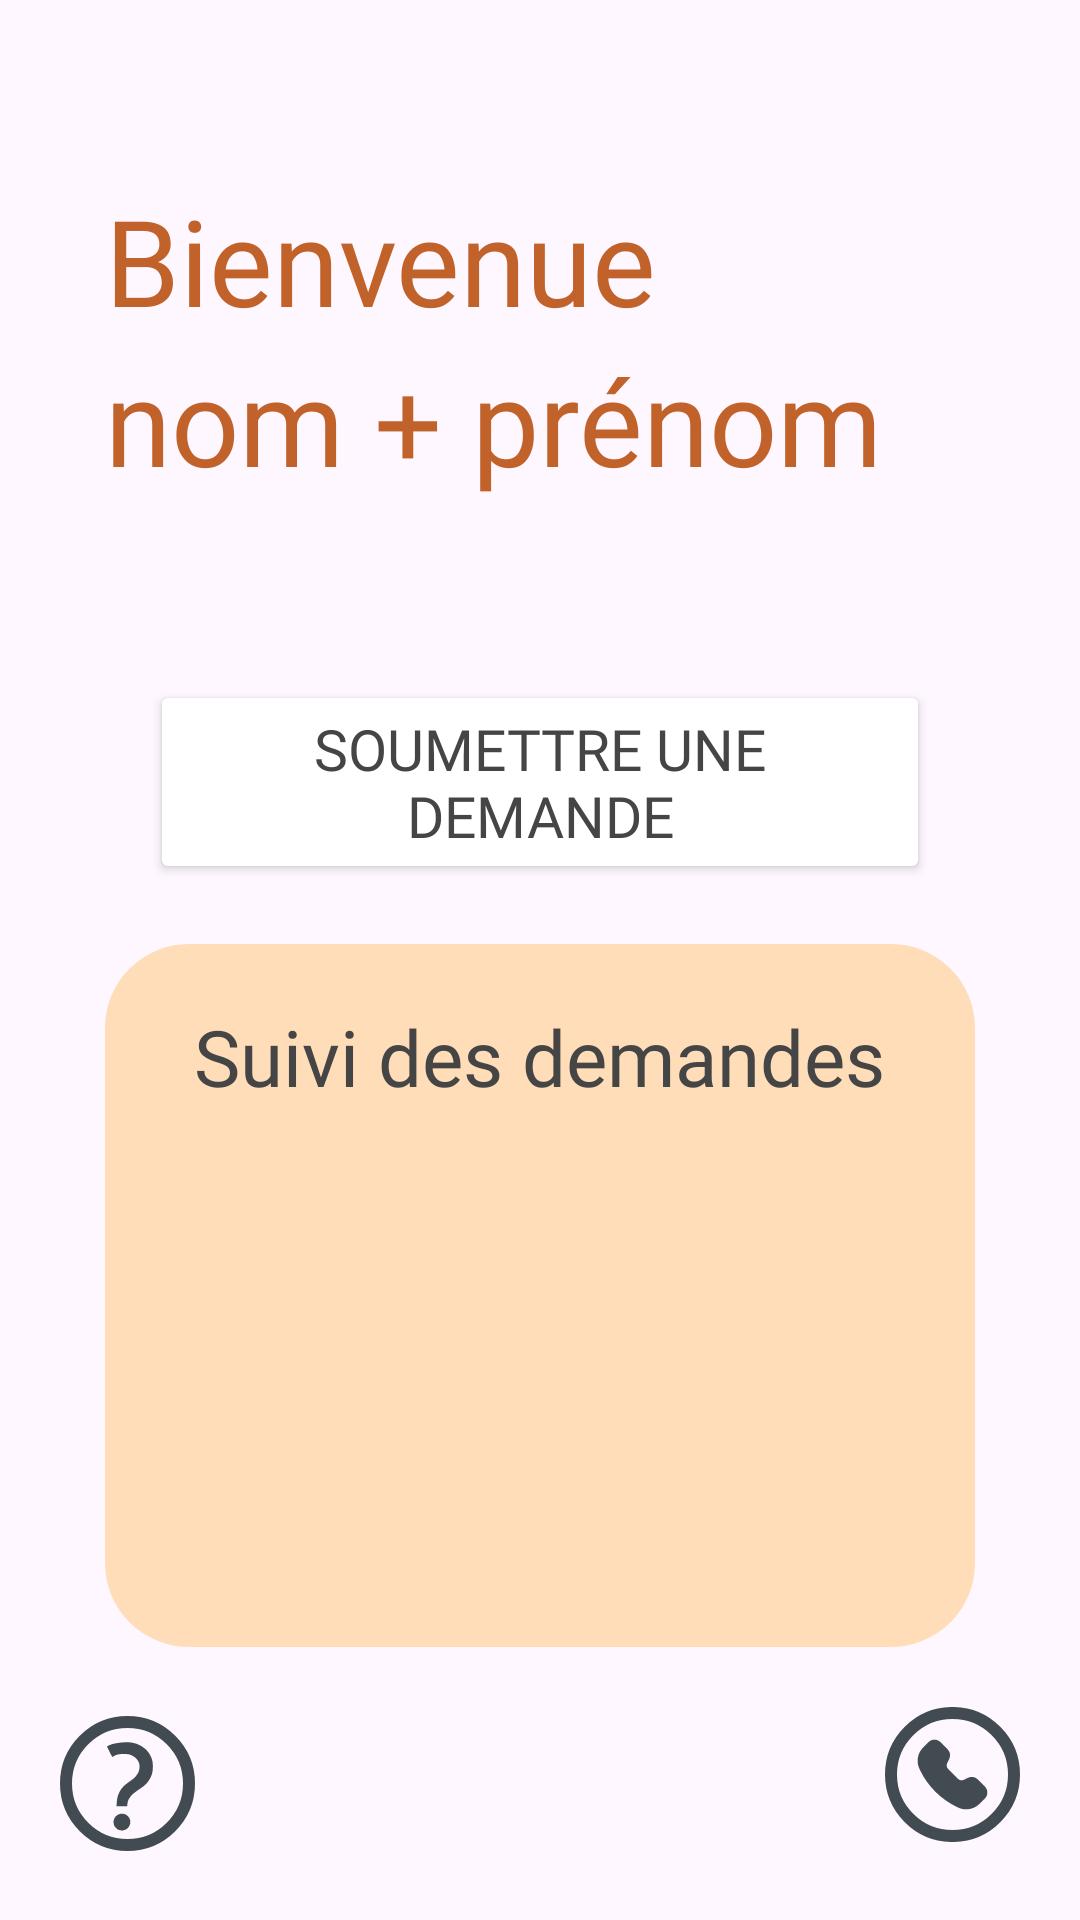

Icon click points for this 1080w x 1920h phone screenshot, format point (x, y):
Client support: point (952, 1774)
FAQ: point (127, 1783)
